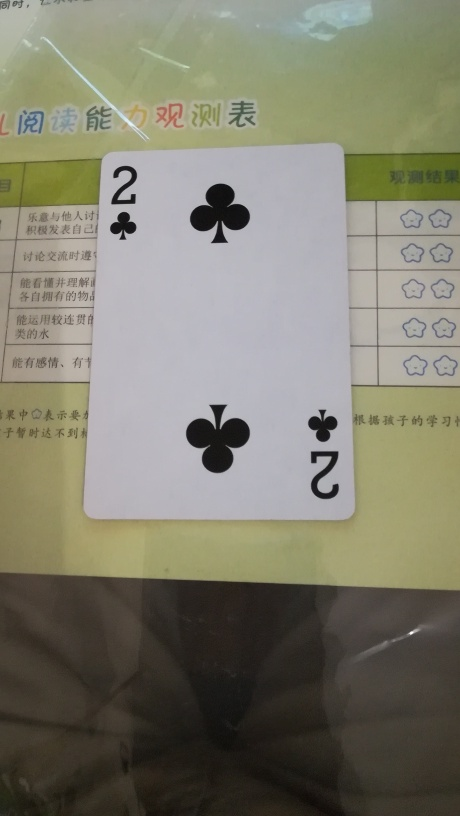mh 2: (85, 144, 355, 518)
